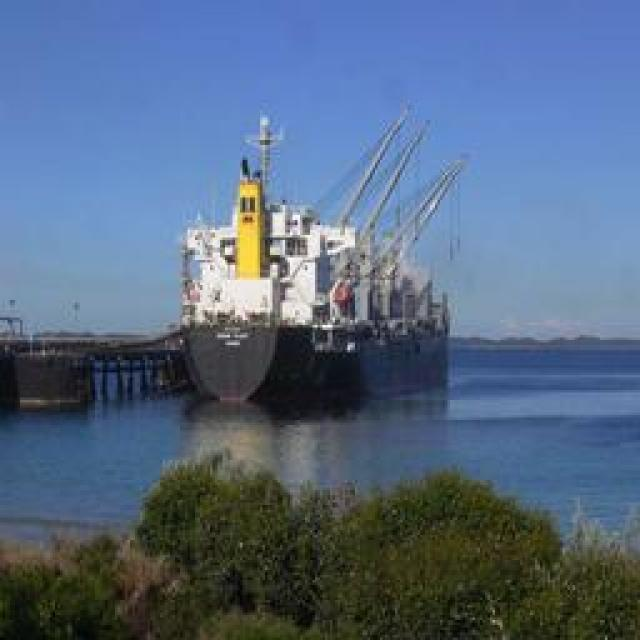CIV_Ship: (185, 117, 460, 405)
